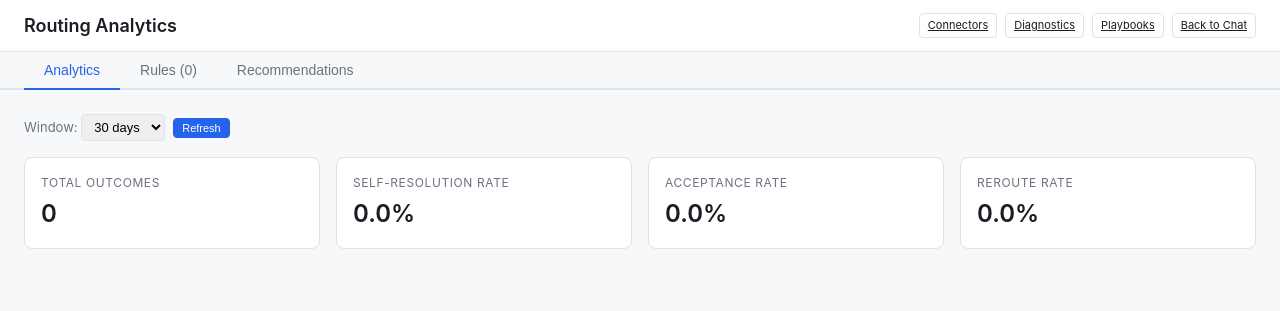
Test: RoutingAnalyticsPage › create rule form has aria-label on min severity select
This screenshot has width=1280, height=311.
Click the button "Rules (0)" at point(168, 71), box [120, 52, 217, 90]
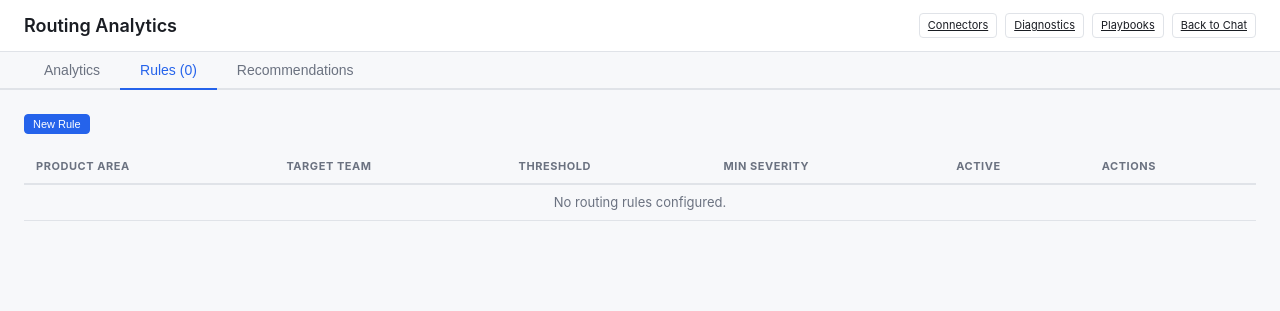
Expected: the button "New Rule" is shown
Click the button "New Rule" at point(57, 124), box [24, 114, 90, 134]
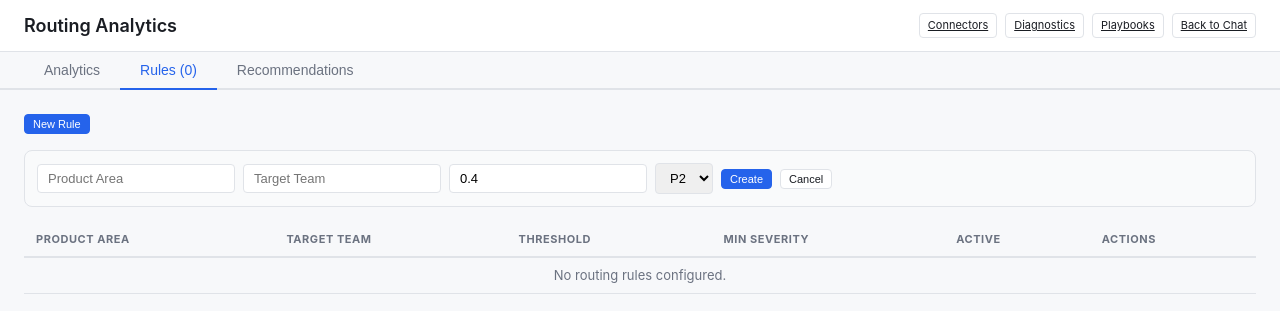
Expected: the dropdown named "Minimum severity" is shown, [655, 163, 713, 194]
